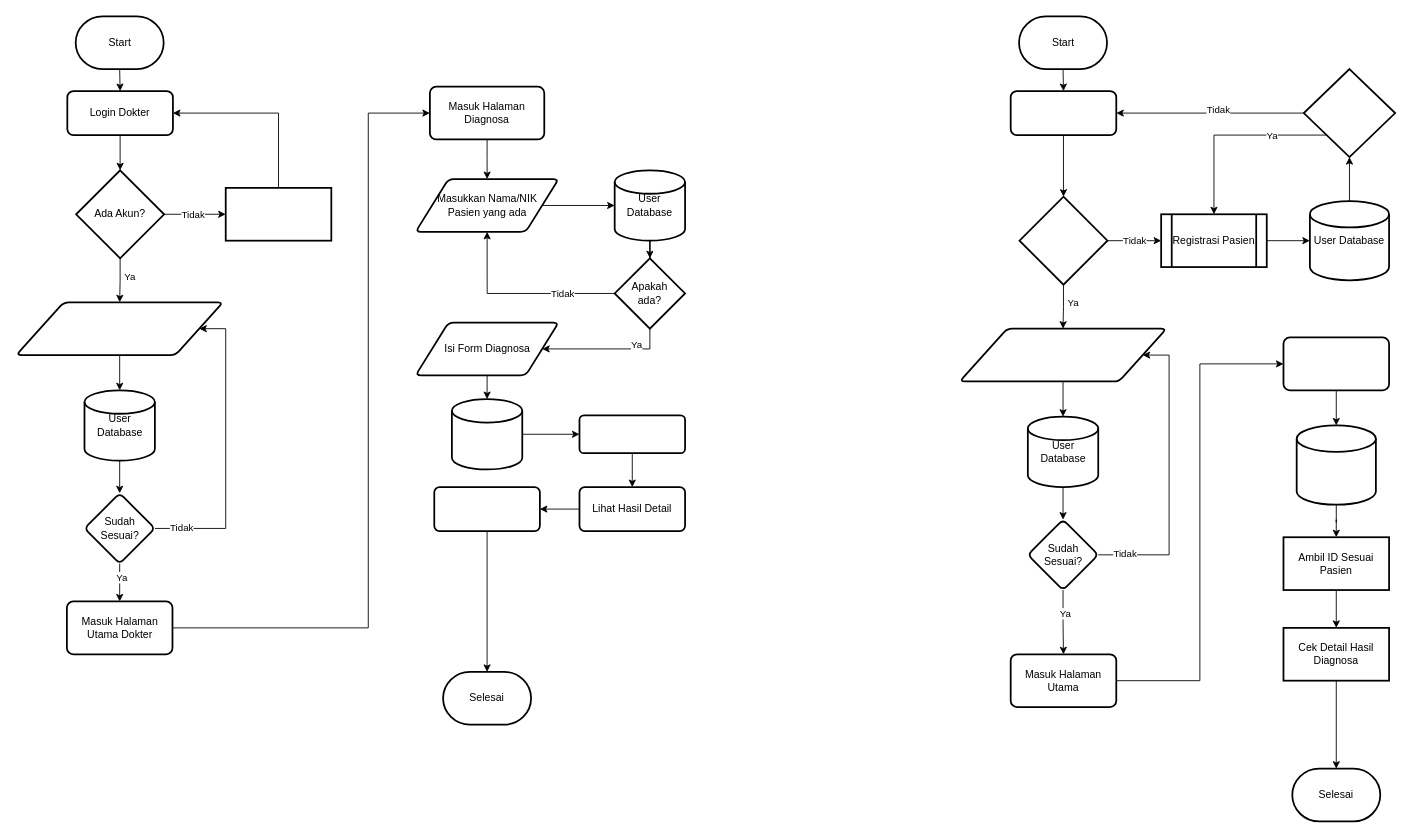
Some shapes in this 1411 by 837 pixel diagram are drawn without their labels. Each missing label, with the centre of its shape:
Diagnosa Database: pixel 487 434
Diagnosis Database: pixel 1335 464
Hasil Diagnosa: pixel 632 434
Kirim ke Pasien: pixel 486 509
Kontak Admin: pixel 278 214
Login Pasien: pixel 1063 113
Masuk Halaman History: pixel 1336 363
Masukkan Email dan Password: pixel 119 328
Masukkan NIK dan Password: pixel 1062 354
NIK/Email sudah dipakai?: pixel 1349 113
Sudah Daftar?: pixel 1063 240
